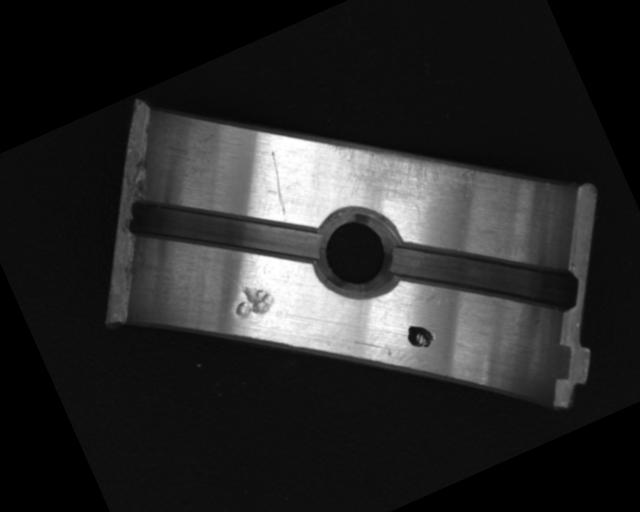blot: (402, 317, 437, 354)
bruise: (225, 275, 278, 325)
gap: (120, 139, 325, 321), (385, 187, 585, 367)
hole: (296, 194, 416, 315)
nick: (255, 151, 302, 223)
scratch: (323, 86, 499, 248)
